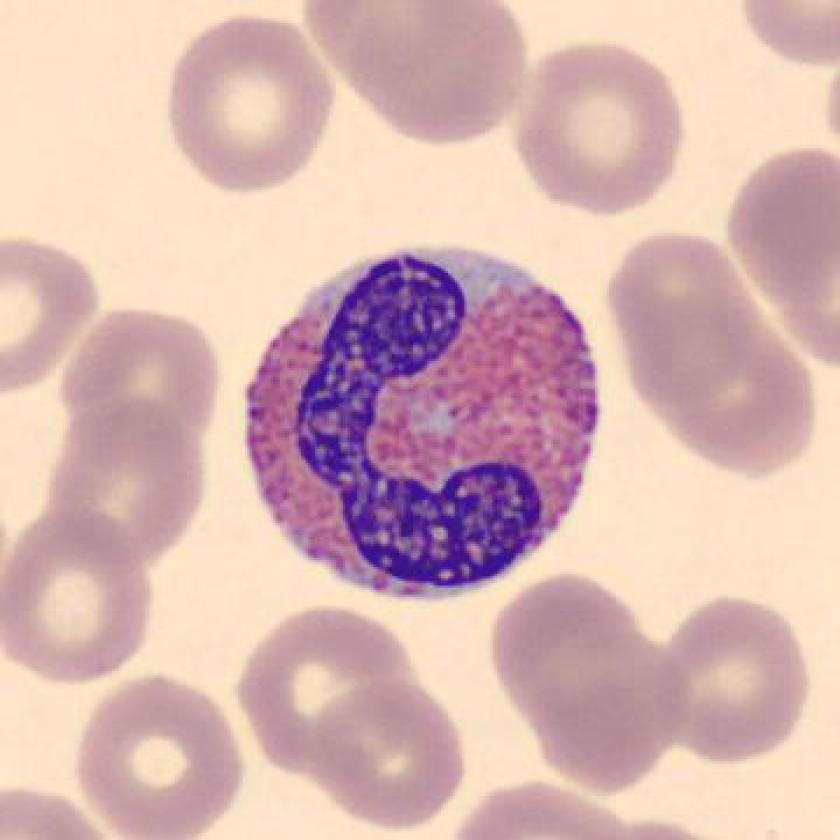eosinophil: (223, 232, 612, 612)
